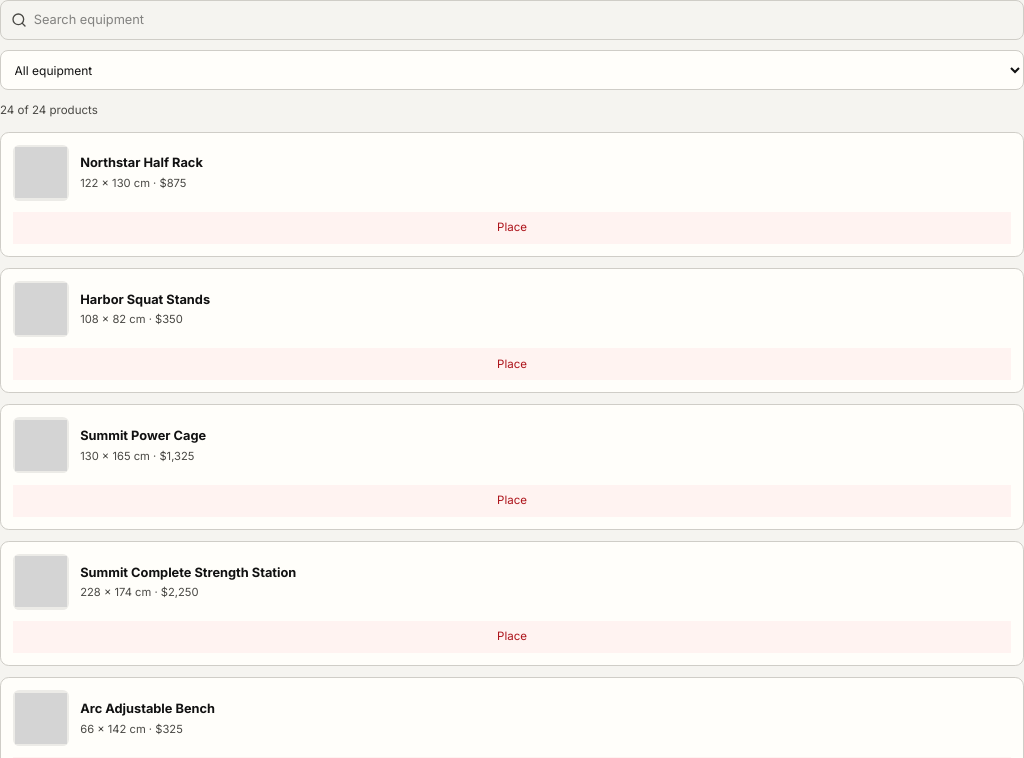
EquipmentCatalogPanel › filters all equipment in racks
The width and height of the screenshot is (1024, 758).
Select "Racks & Stands" in the dropdown named "Equipment category": x=512, y=70 [0,50,1023,90]
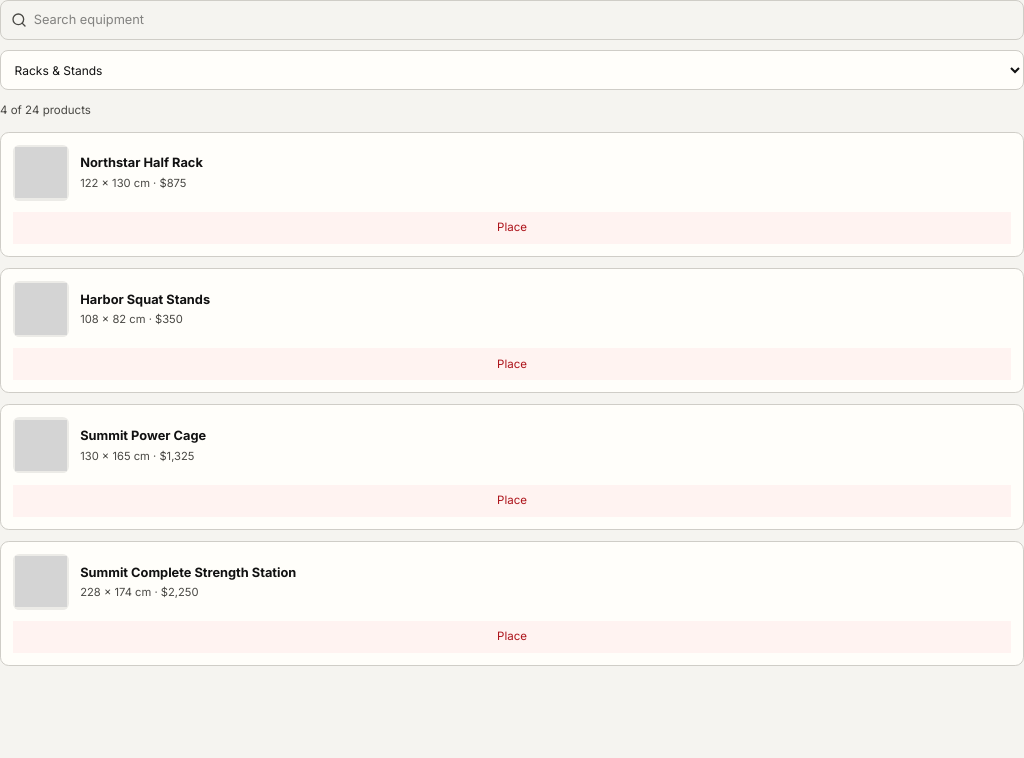
Expected: the button with aria-label "Place Northstar Half Rack" is shown, [13,212,1011,244]
Result: the number of buttons is 4 at [13,212,1011,244]; [13,348,1011,380]; [13,485,1011,517]; [13,621,1011,653]
